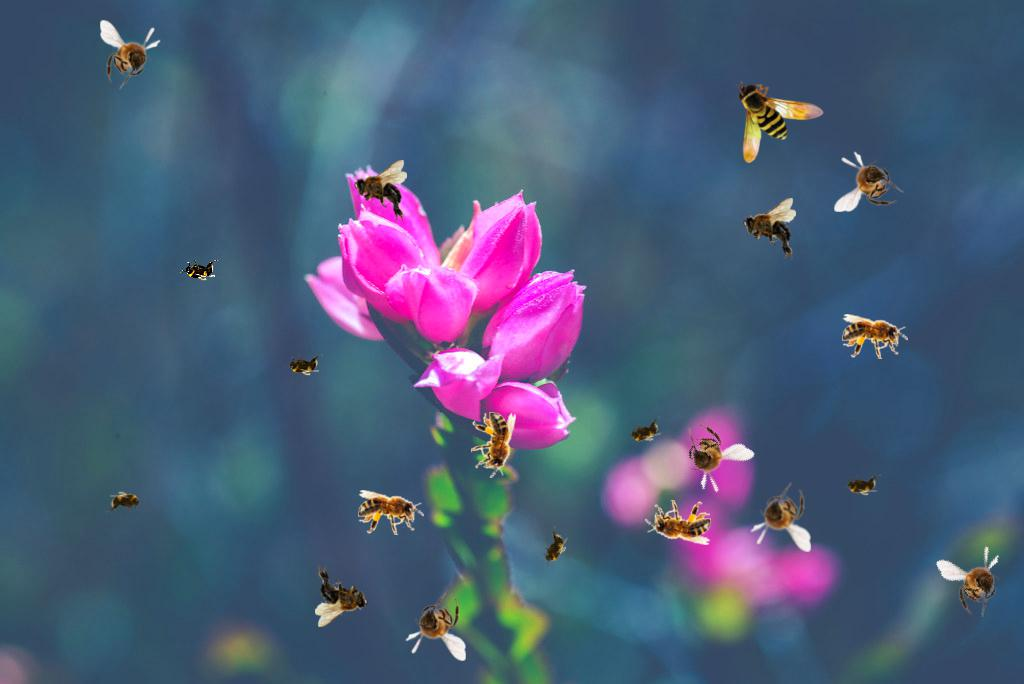Bee: (663, 411, 756, 503), (935, 536, 1020, 626), (736, 81, 824, 163), (100, 20, 161, 90), (405, 591, 466, 661), (834, 151, 904, 212), (750, 482, 811, 552), (315, 565, 368, 627), (354, 160, 407, 222), (743, 198, 796, 260), (358, 490, 424, 535), (645, 500, 711, 545), (471, 412, 516, 478), (842, 314, 908, 359), (534, 526, 574, 572), (621, 415, 667, 449), (179, 259, 219, 281), (841, 474, 881, 496), (106, 491, 146, 513), (283, 354, 323, 376)
